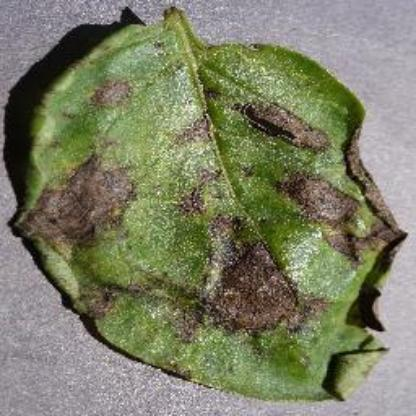Early-Blight: (12, 6, 404, 402)
